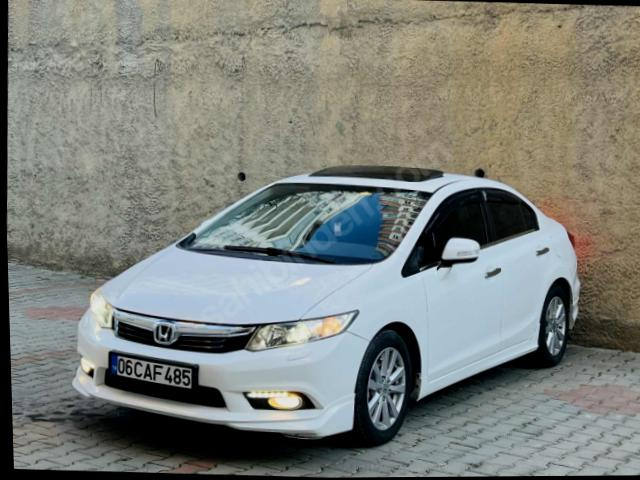plaka: (110, 353, 195, 389)
